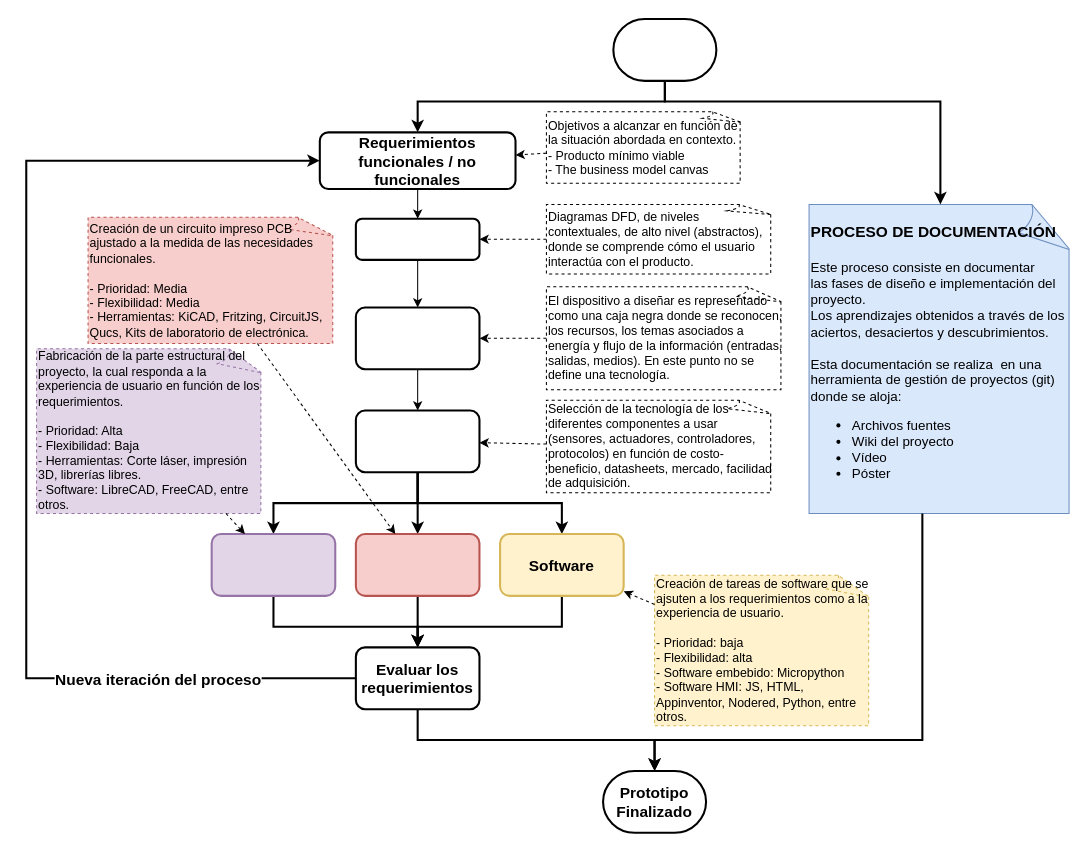
The diagram is 1090 pixels wide and 851 high, and some of its shapes have lost their labels. Here are the shapes that lost their labels. From the top down, the centre of each, then its label:
At (664,49): "Inicio de Prototipo".
At (417,238): "Diagrama de flujo".
At (417,338): "Diagrama de Caja Negra".
At (417,441): "Diagrama tecnológico".
At (273,564): "Case Contenedor".
At (417,564): "Hardware".
